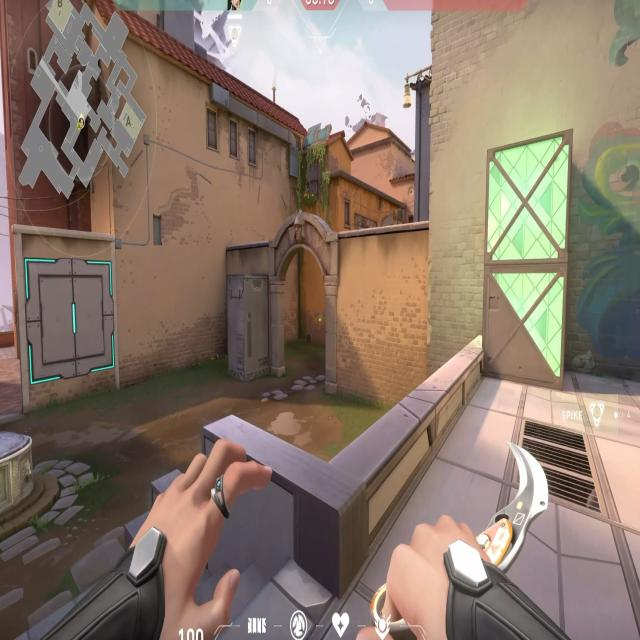Mid_Wall: (16, 243, 130, 424)
